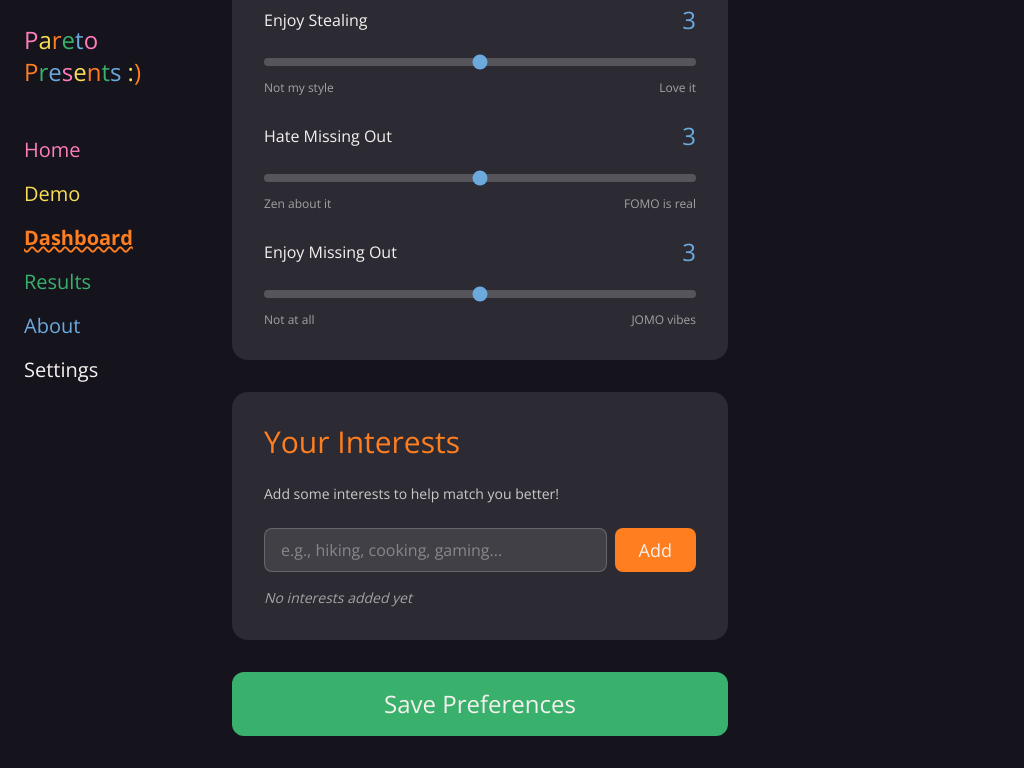
Test: DashboardPage › Preference form interactions › allows adding interests
(page scrolled)
Expected: the heading "Your Interests" is shown, top-left (264, 421), bottom-right (460, 462)
In the field with placeholder "e.g., hiking, cooking, gaming...": [435, 550] box top-left (264, 528), bottom-right (607, 572), type "photography"
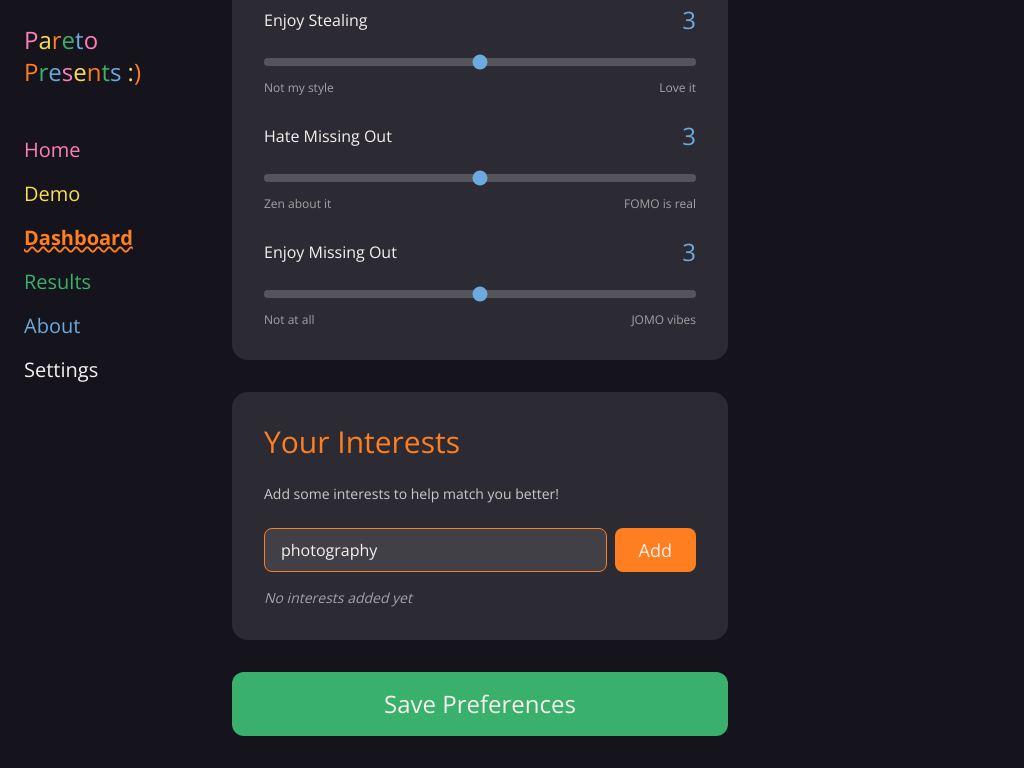
Click the button "Add": [655, 550] box top-left (615, 528), bottom-right (696, 572)
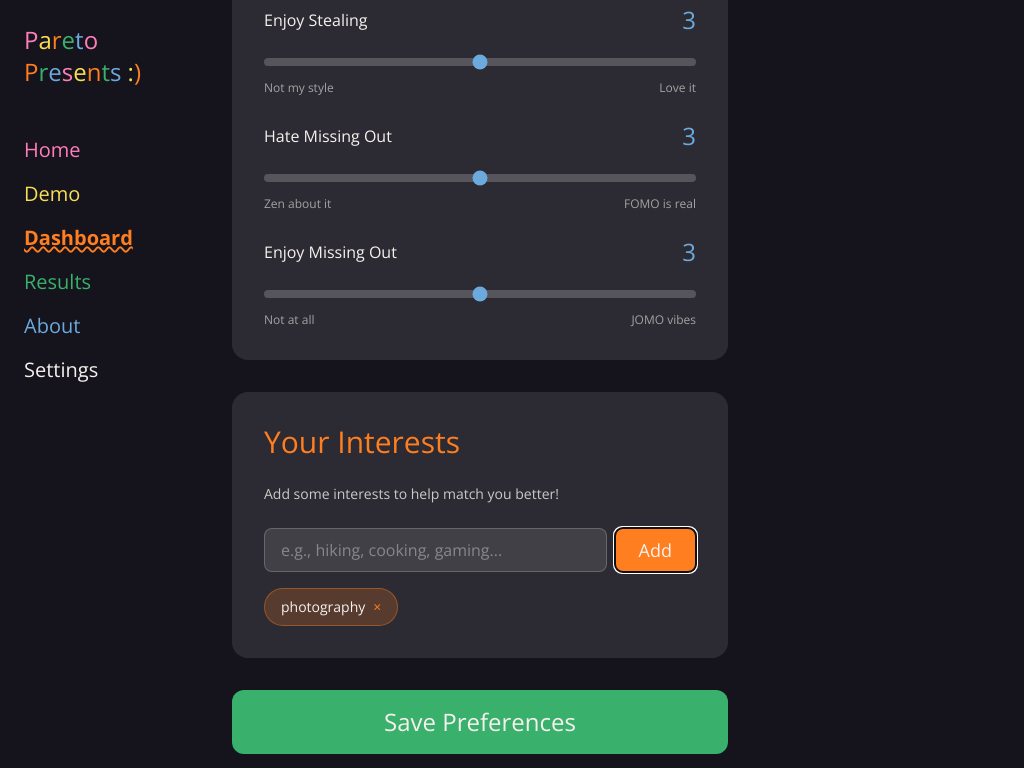
Expected: the text "photography" is shown, top-left (281, 597), bottom-right (365, 616)
